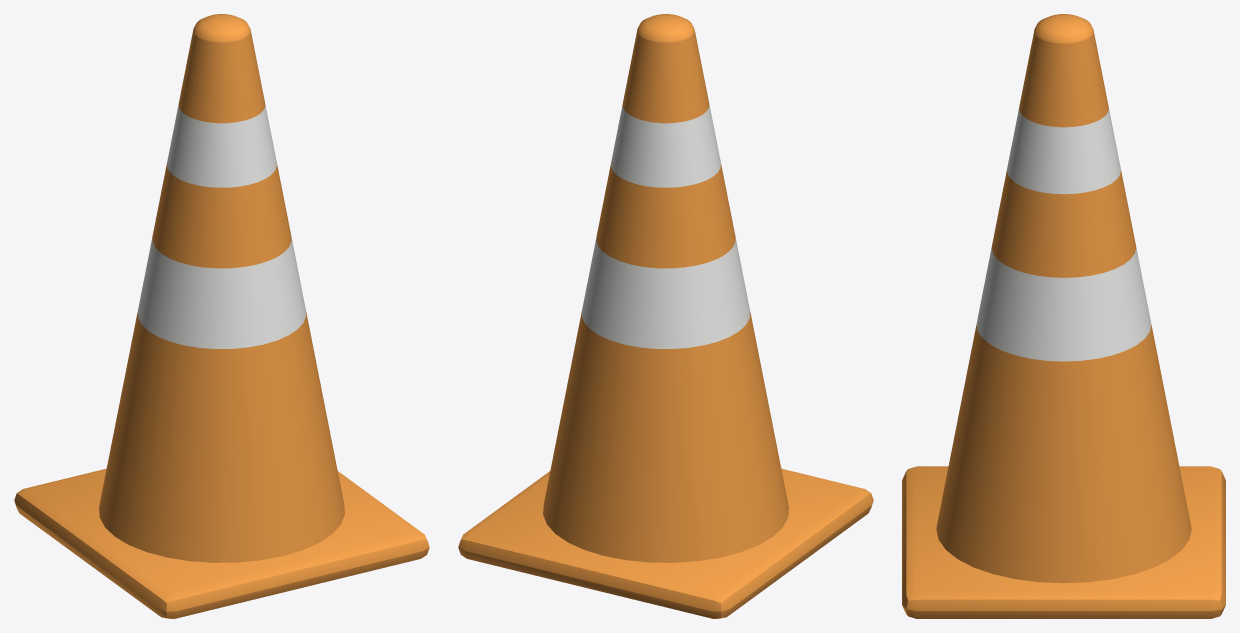
Rendered from Prop_TrafficCone.fbx.
The picture shows the model from 3 angles, left to right: view 1: azimuth 30°, elevation 25°; view 2: azimuth 150°, elevation 25°; view 3: azimuth 270°, elevation 25°; orthographic projection. The views are drawn at different scales.
Parts seen in each view (by area): view 1: TrafficCone; view 2: TrafficCone; view 3: TrafficCone.
Part boxes in pixels (x1=…): TrafficCone: x1=14, y1=14, x2=429, y2=618; TrafficCone: x1=458, y1=14, x2=873, y2=618; TrafficCone: x1=902, y1=14, x2=1225, y2=618.
Bounding box in the file's own units: 0.38 × 0.695 × 0.38.
